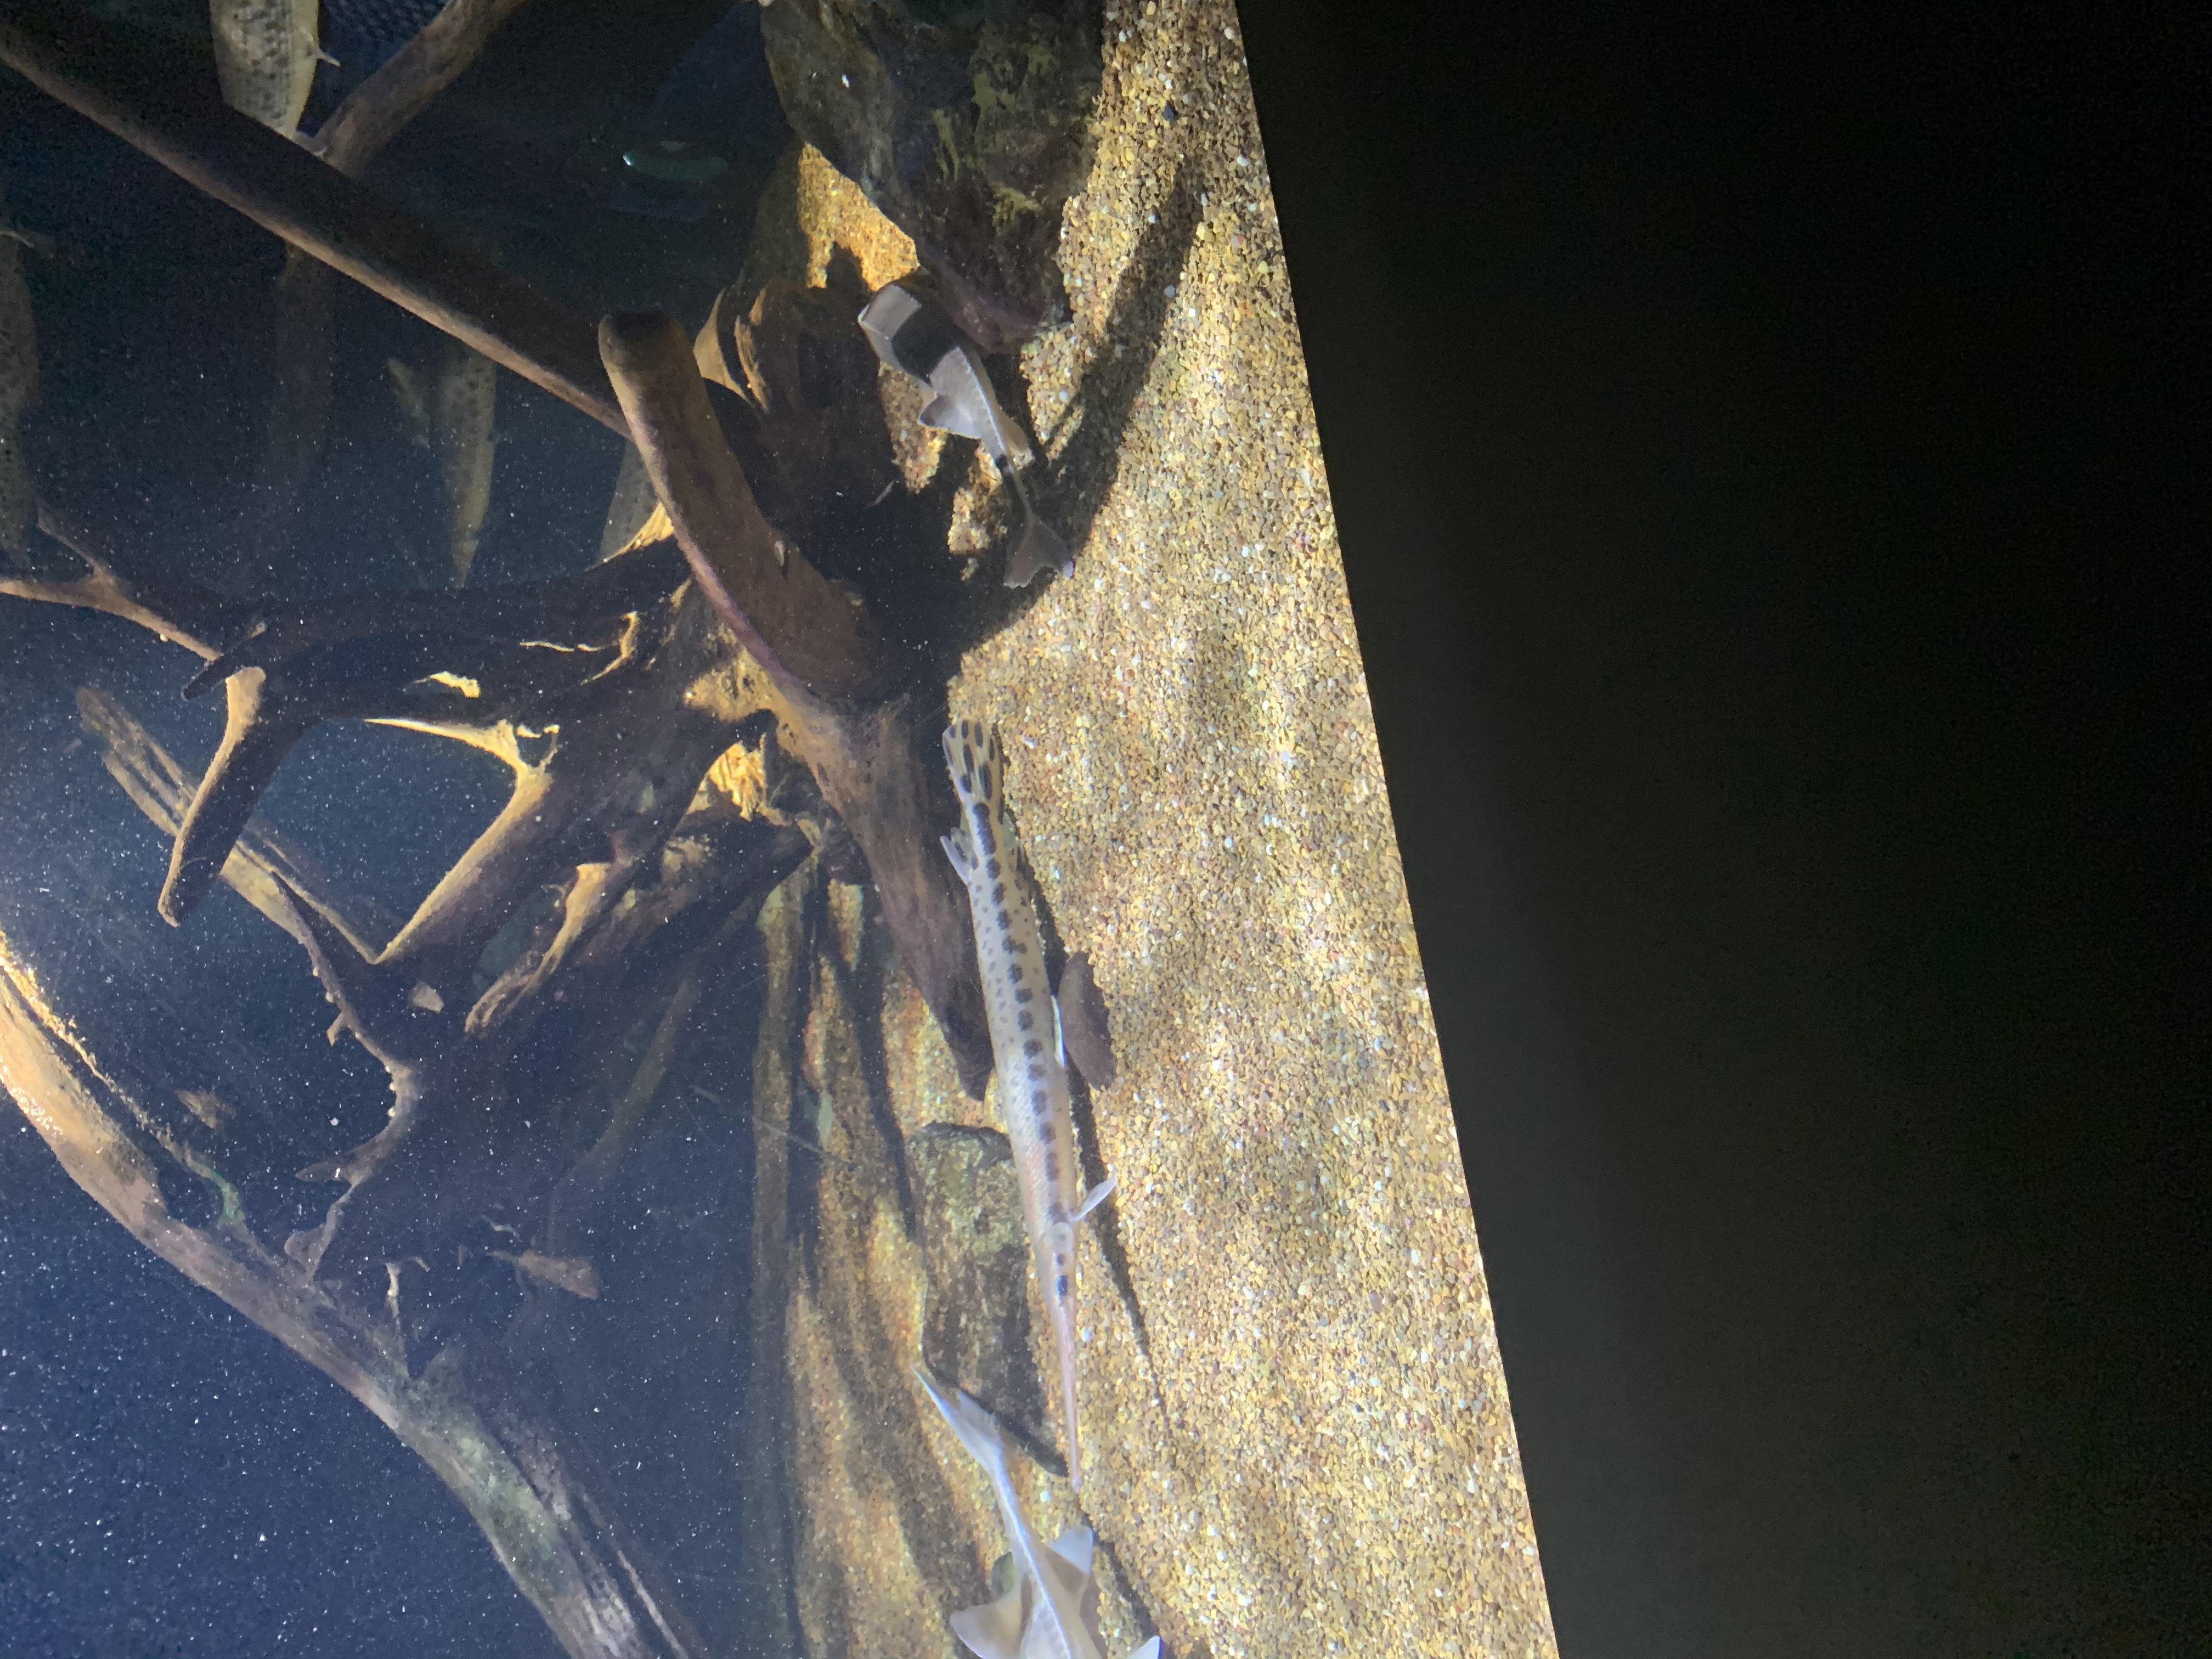fish: (941, 709, 1108, 1535)
shark: (916, 1361, 1153, 1659), (857, 272, 1082, 586)
